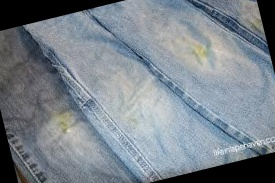earth: (190, 41, 212, 64), (55, 112, 75, 137)
